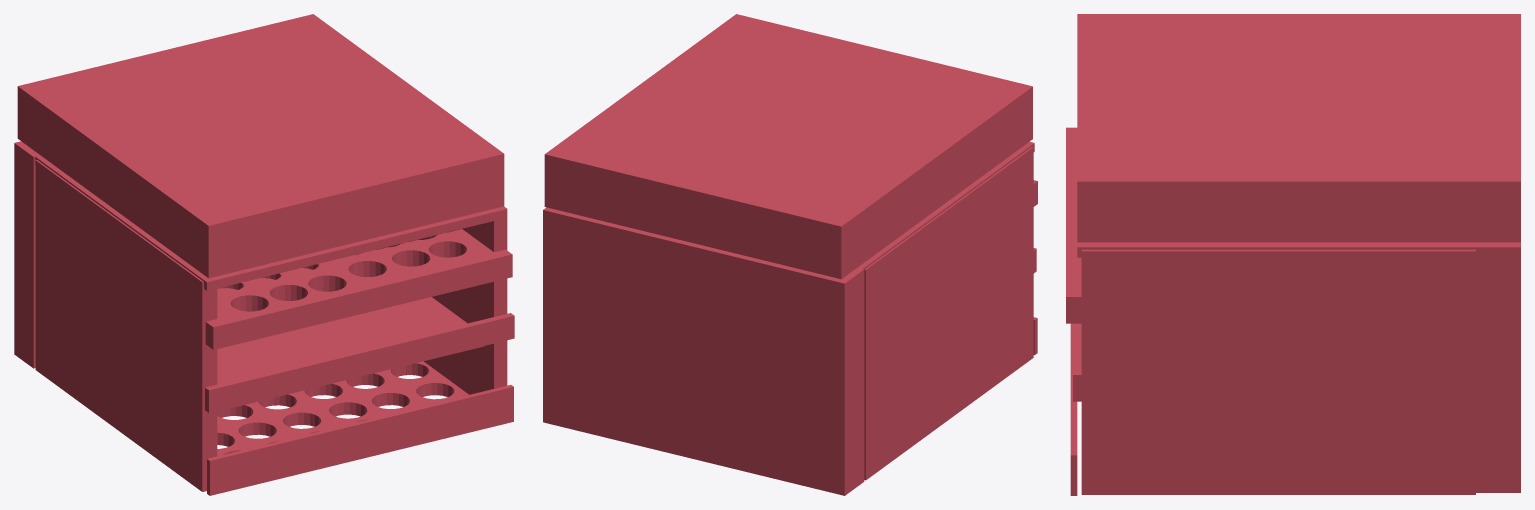
The model's file is Grand Allis.glb.
3 renders of one model, left to right at view 1: azimuth 30°, elevation 25°; view 2: azimuth 150°, elevation 25°; view 3: azimuth 270°, elevation 25°, orthographic. The views are drawn at different scales.
Visible parts, largest first — view 1: Mesh_Mesh_head_geo.001_lambert2SG.001; view 2: Mesh_Mesh_head_geo.001_lambert2SG.001; view 3: Mesh_Mesh_head_geo.001_lambert2SG.001.
Boxes of the visible parts, <box> form: Mesh_Mesh_head_geo.001_lambert2SG.001: <box>14,14,514,495</box>; Mesh_Mesh_head_geo.001_lambert2SG.001: <box>543,14,1037,495</box>; Mesh_Mesh_head_geo.001_lambert2SG.001: <box>1066,14,1520,495</box>.
Size of the model in its own units: 184 by 153 by 203.
